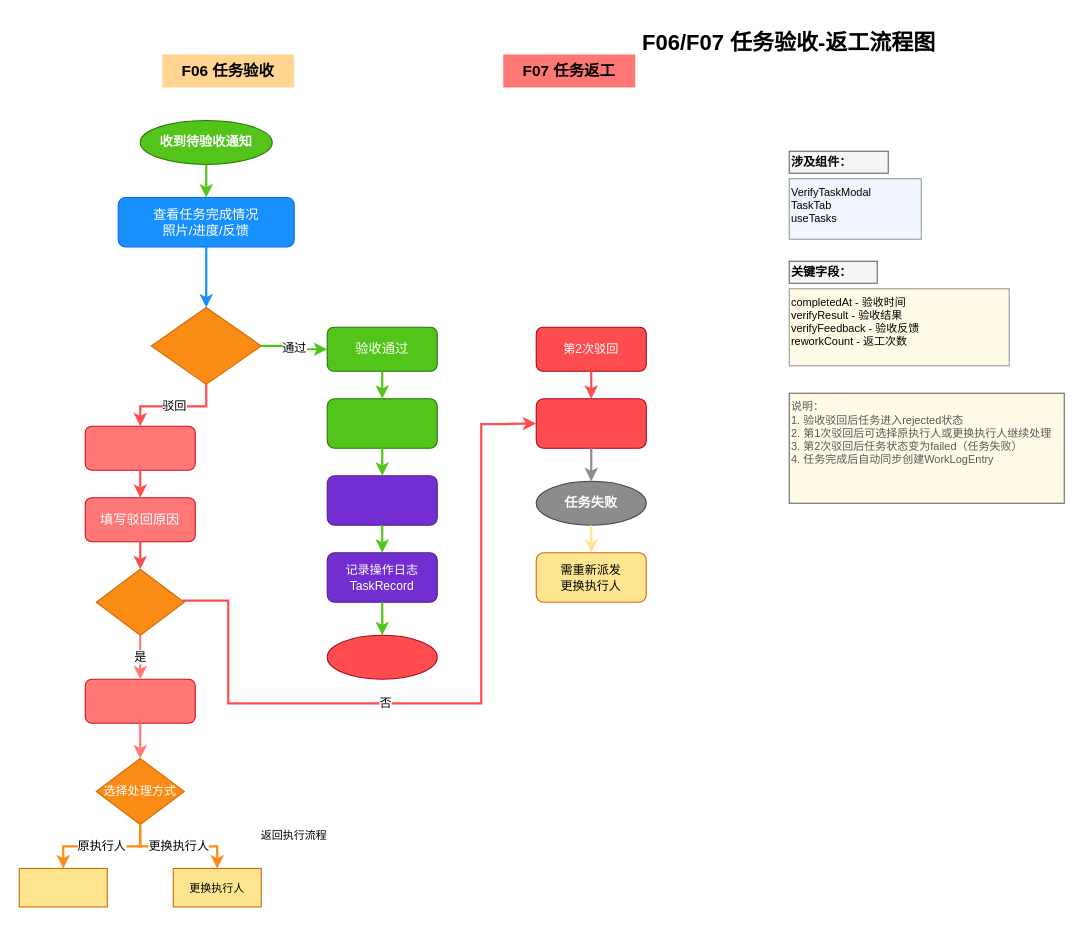
The diagram is 1084 pixels wide and 926 high, and some of its shapes have lost their labels. The shapes that lost their labels are listed below. From the top down, each one's centre as x and y in pixels, then its label:
At point 205,345: "验收结果？".
At point 381,423: "任务状态变更 waiting_acceptance→completed".
At point 590,423: "任务状态变更 rejected → failed".
At point 139,447: "验收驳回".
At point 381,500: "自动同步 创建WorkLog".
At point 139,601: "第1次驳回？".
At point 381,656: "验收完成".
At point 139,700: "进入返工流程".
At point 62,887: "原执行人处理".
